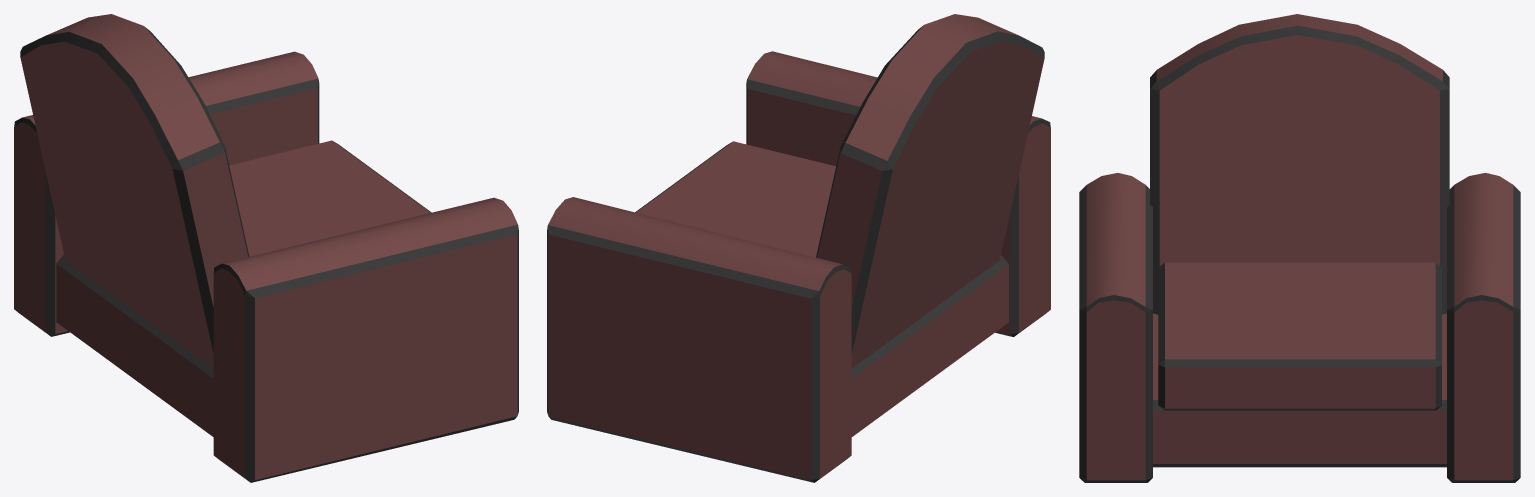
Rendered from Armchair.fbx.
3 views of the same model, side by side, from view 1: azimuth 30°, elevation 25°; view 2: azimuth 150°, elevation 25°; view 3: azimuth 270°, elevation 25° (orthographic). The views are drawn at different scales.
Visible parts, largest first — view 1: Armchair; view 2: Armchair; view 3: Armchair.
Part boxes in pixels (bbox=[...]): Armchair: bbox=[14, 14, 518, 482]; Armchair: bbox=[547, 14, 1050, 482]; Armchair: bbox=[1079, 14, 1520, 482].
Bounding box in the file's own units: 138 × 155 × 181.
